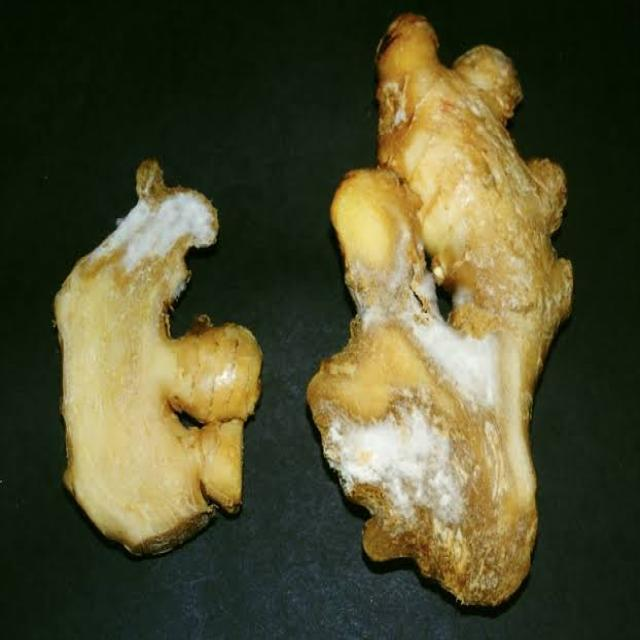ginger: (337, 22, 578, 616), (63, 166, 265, 558)
